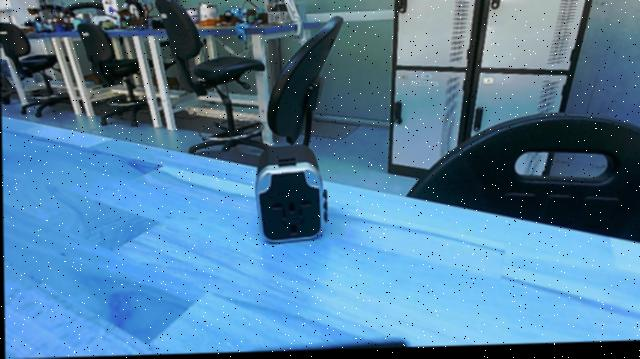adapter: (255, 141, 331, 249)
